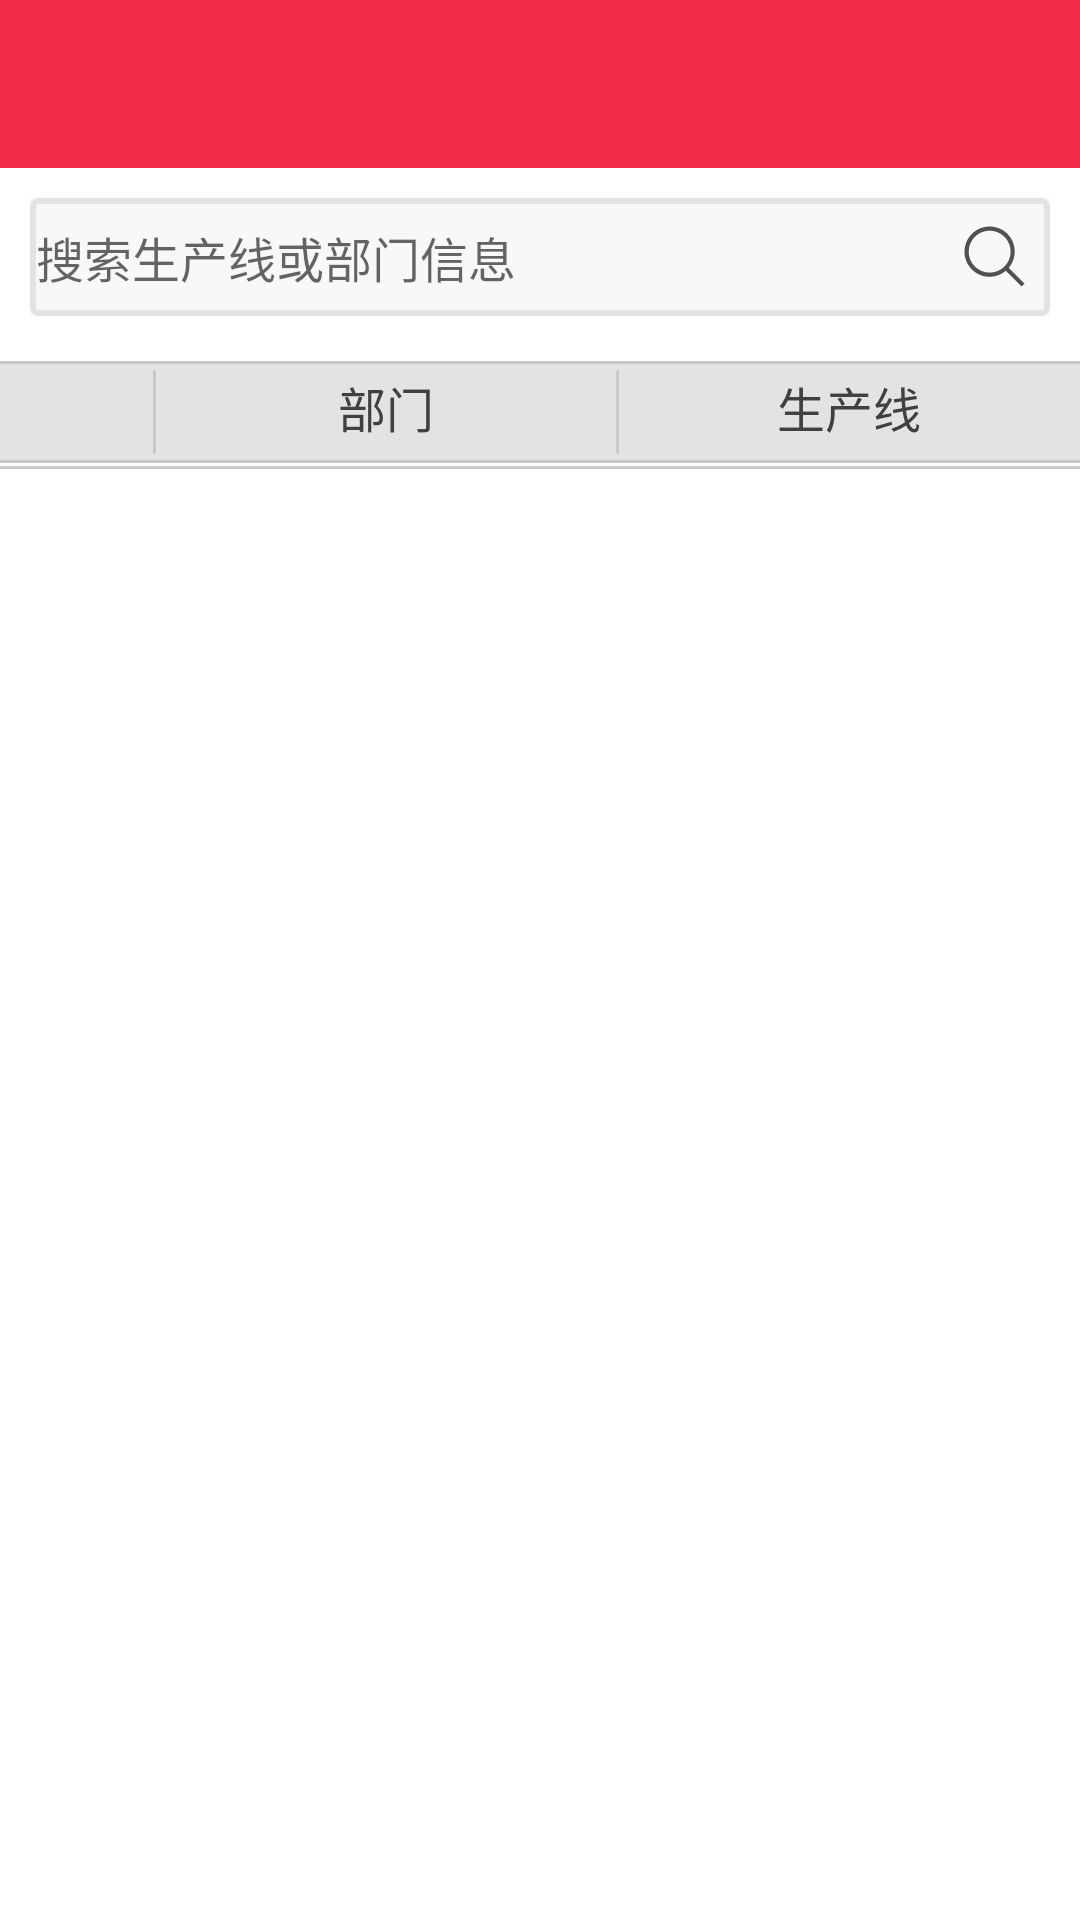

Screen size 1080 x 1920. Icon name, then its center in pixels as point (x, y):
search: point (994, 256)
